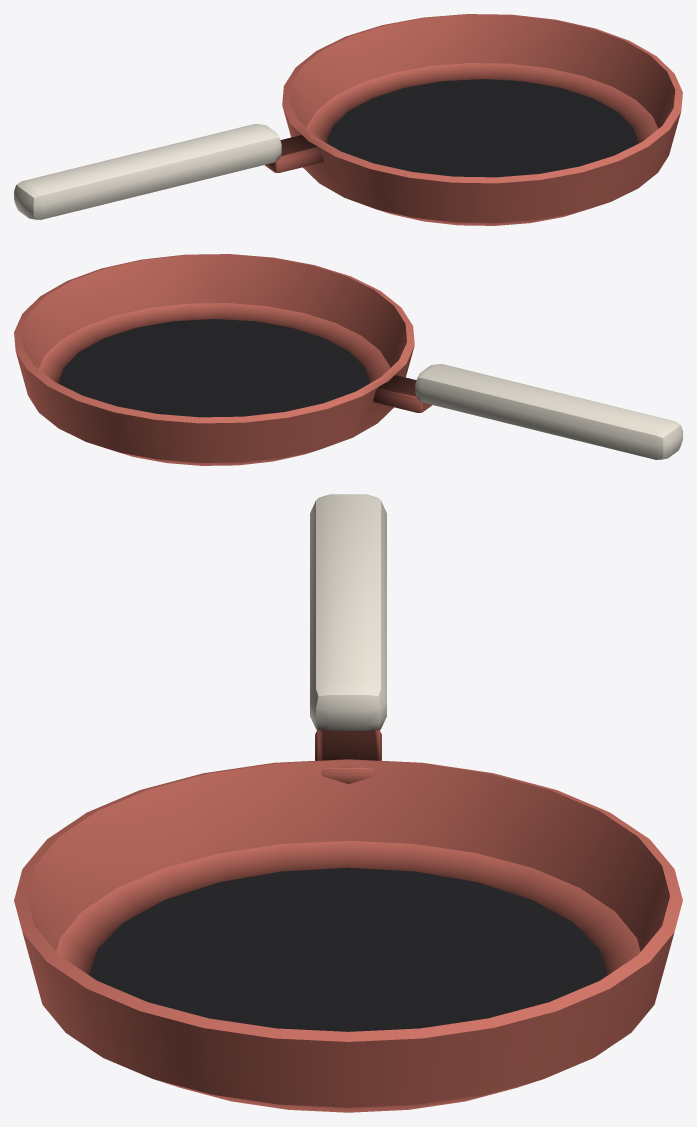
The model's file is cook_pan.glb.
The picture shows the model from 3 angles, top to bottom: view 1: azimuth 30°, elevation 25°; view 2: azimuth 150°, elevation 25°; view 3: azimuth 270°, elevation 25°; orthographic projection. The views are drawn at different scales.
Parts seen in each view (by area): view 1: PART; view 2: PART; view 3: PART.
Part boxes in pixels (x1,y1,x2,y2): PART: (14,14,682,225); PART: (14,254,682,465); PART: (14,494,682,1112).
Size of the model in its own units: 0.475 by 0.0592 by 0.26.
